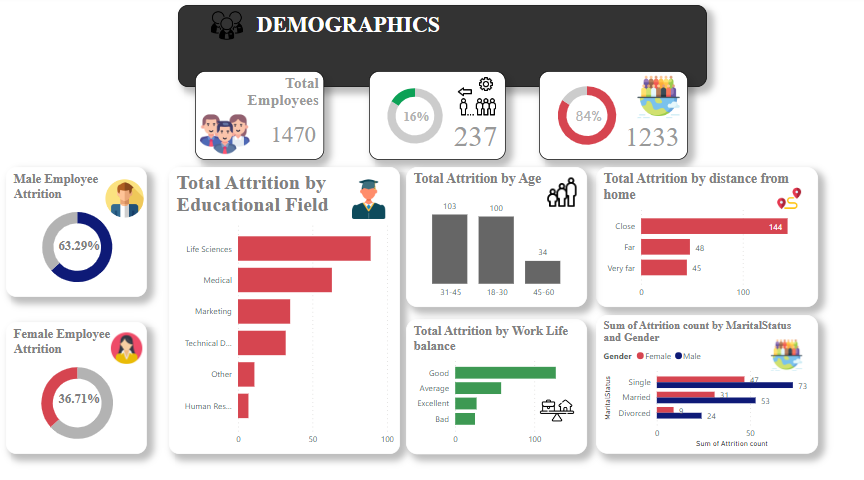

The dashboard page shown, as its layout file describes it:
{"tool":"powerbi","page":{"name":"Page 2","canvas":[1280,720],"ordinal":1},"visuals":[{"type":"textbox","box":[263.4,13.2,774.1,120],"z":0},{"type":"image","box":[286.8,13.2,95.1,60],"z":1000},{"type":"cardVisual","title":"Total","fields":{"Data":["Sum(HR-Employee-Attrition.EmployeeCount)"]},"box":[287.6,110.5,189.4,129.8],"z":2000},{"type":"cardVisual","fields":{"Data":["Sum(HR-Employee-Attrition.Attrition count)"]},"box":[542.9,109.8,200.5,130.2],"z":3000},{"type":"donutChart","fields":{"Category":["HR-Employee-Attrition.Attrition"],"Y":["Sum(HR-Employee-Attrition.EmployeeCount)"]},"box":[553.2,120,114.1,111.2],"z":4000},{"type":"cardVisual","fields":{"Data":["HR-Employee-Attrition.AE"]},"box":[791.7,109.8,218,130.2],"z":5000},{"type":"donutChart","fields":{"Category":["HR-Employee-Attrition.Attrition"],"Y":["Sum(HR-Employee-Attrition.EmployeeCount)"]},"box":[803.4,115.6,117.1,118.5],"z":6000},{"type":"textbox","box":[588.3,161,169.8,36.6],"z":7000},{"type":"textbox","box":[840,156,302.9,40],"z":8000},{"type":"clusteredBarChart","title":"Total Attrition by Educational Field","fields":{"Category":["HR-Employee-Attrition.EducationField"],"Y":["Sum(HR-Employee-Attrition.Attrition count)"]},"box":[250.2,250.2,338,420],"z":9000},{"type":"image","box":[506.3,260.5,71.7,73.2],"z":10000},{"type":"clusteredBarChart","title":"Total Attrition by Work Life balance","fields":{"Y":["Sum(HR-Employee-Attrition.Attrition count)"],"Category":["HR-Employee-Attrition.WorkLifeBalance (groups)"]},"box":[597.1,472.7,264.9,197.6],"z":11000},{"type":"clusteredBarChart","title":"Total Attrition by distance from home","fields":{"Category":["HR-Employee-Attrition.DistanceFromHome (groups)"],"Y":["Sum(HR-Employee-Attrition.Attrition count)"]},"box":[875.1,250.2,324.9,204.9],"z":12000},{"type":"clusteredColumnChart","title":"Total Attrition by Age","fields":{"Category":["HR-Employee-Attrition.Age (groups)"],"Y":["Sum(HR-Employee-Attrition.Attrition count)"]},"box":[597.1,250.2,264.9,204.9],"z":13000},{"type":"clusteredBarChart","fields":{"Category":["HR-Employee-Attrition.MaritalStatus"],"Y":["Sum(HR-Employee-Attrition.Attrition count)"],"Series":["HR-Employee-Attrition.Gender"]},"box":[875.1,466.8,324.9,203.4],"z":14000},{"type":"donutChart","title":"Female Employee Attrition","fields":{"Category":["HR-Employee-Attrition.Gender"],"Y":["Sum(HR-Employee-Attrition.Attrition count)"]},"box":[11.7,477.1,206.3,193.2],"z":15000},{"type":"donutChart","title":"Male Employee Attrition","fields":{"Category":["HR-Employee-Attrition.Gender"],"Y":["Sum(HR-Employee-Attrition.Attrition count)"]},"box":[11.7,250.2,206.3,190.2],"z":16000},{"type":"image","box":[152.2,250.2,65.9,92.2],"z":17000},{"type":"image","box":[152.2,487.3,71.7,55.6],"z":18000},{"type":"textbox","box":[83.4,345.4,90.7,55.6],"z":19000},{"type":"textbox","box":[83.4,573.7,134.6,33.7],"z":20000},{"type":"image","box":[791.7,260.5,67.3,52.7],"z":21000},{"type":"image","box":[777.1,576.6,82,60],"z":22000},{"type":"image","box":[1128.3,273.7,58.5,45.4],"z":23000},{"type":"image","box":[1121,497.6,65.9,55.6],"z":24000}]}

Visuals, with their boxes in screenshot pixels (x1, y1, x2, y2), scaled from the page's 1280x720 canvas onto the 864x480 screenshot:
textbox: [178,9,700,89]
image: [194,9,258,49]
"Total" cardVisual: [194,74,322,160]
cardVisual - Sum(HR-Employee-Attrition.Attrition count): [366,73,502,160]
donutChart - HR-Employee-Attrition.Attrition x Sum(HR-Employee-Attrition.EmployeeCount): [373,80,450,154]
cardVisual - HR-Employee-Attrition.AE: [534,73,682,160]
donutChart - HR-Employee-Attrition.Attrition x Sum(HR-Employee-Attrition.EmployeeCount): [542,77,621,156]
textbox: [397,107,512,132]
textbox: [567,104,771,131]
"Total Attrition by Educational Field" clusteredBarChart: [169,167,397,447]
image: [342,174,390,222]
"Total Attrition by Work Life balance" clusteredBarChart: [403,315,582,447]
"Total Attrition by distance from home" clusteredBarChart: [591,167,810,303]
"Total Attrition by Age" clusteredColumnChart: [403,167,582,303]
clusteredBarChart - HR-Employee-Attrition.MaritalStatus x Sum(HR-Employee-Attrition.Attrition count): [591,311,810,447]
"Female Employee Attrition" donutChart: [8,318,147,447]
"Male Employee Attrition" donutChart: [8,167,147,294]
image: [103,167,147,228]
image: [103,325,151,362]
textbox: [56,230,118,267]
textbox: [56,382,147,405]
image: [534,174,580,209]
image: [525,384,580,424]
image: [762,182,801,213]
image: [757,332,801,369]
